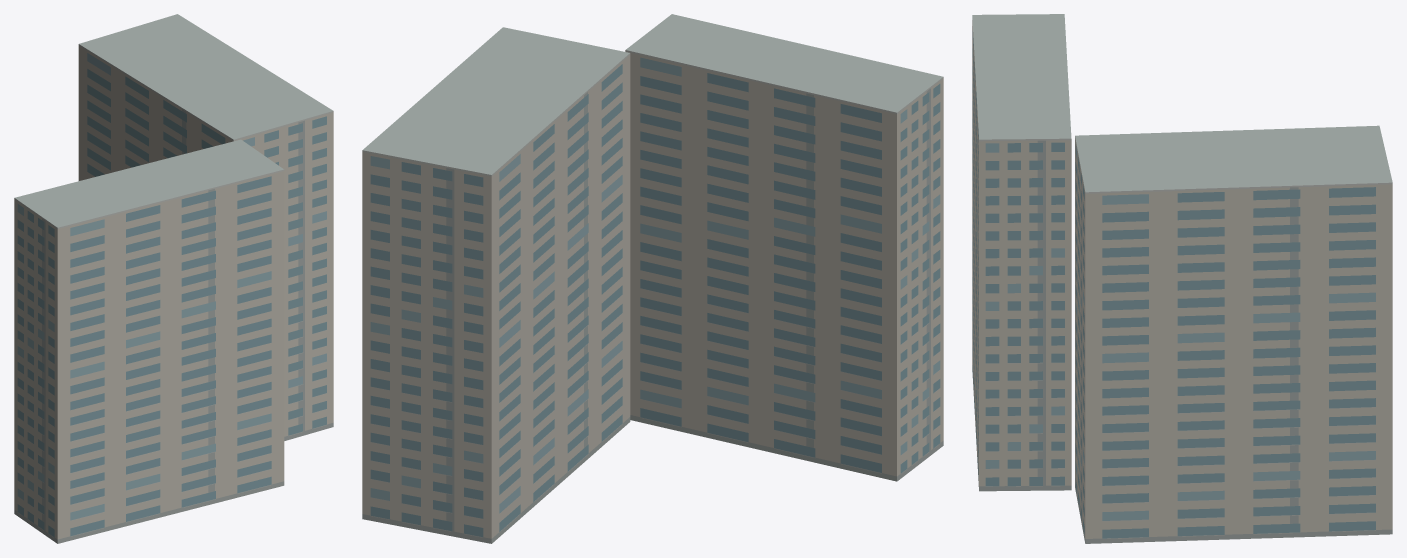
The model's file is residential-e25de619-22c3-497c-ba87-4b205c04cbcf.glb.
3 views of the same model, side by side, from view 1: azimuth 30°, elevation 25°; view 2: azimuth 150°, elevation 25°; view 3: azimuth 270°, elevation 25° (orthographic). The views are drawn at different scales.
Visible parts, largest first — view 1: residential-e25de619-22c3-497c-ba87-4b205c04cbcf.tmp; view 2: residential-e25de619-22c3-497c-ba87-4b205c04cbcf.tmp; view 3: residential-e25de619-22c3-497c-ba87-4b205c04cbcf.tmp.
Boxes of the visible parts, x1,y1,x2,y2 form: residential-e25de619-22c3-497c-ba87-4b205c04cbcf.tmp: [14, 14, 333, 543]; residential-e25de619-22c3-497c-ba87-4b205c04cbcf.tmp: [362, 14, 943, 543]; residential-e25de619-22c3-497c-ba87-4b205c04cbcf.tmp: [972, 14, 1392, 543].
Size of the model in its own units: 58.71 by 54 by 58.53.
